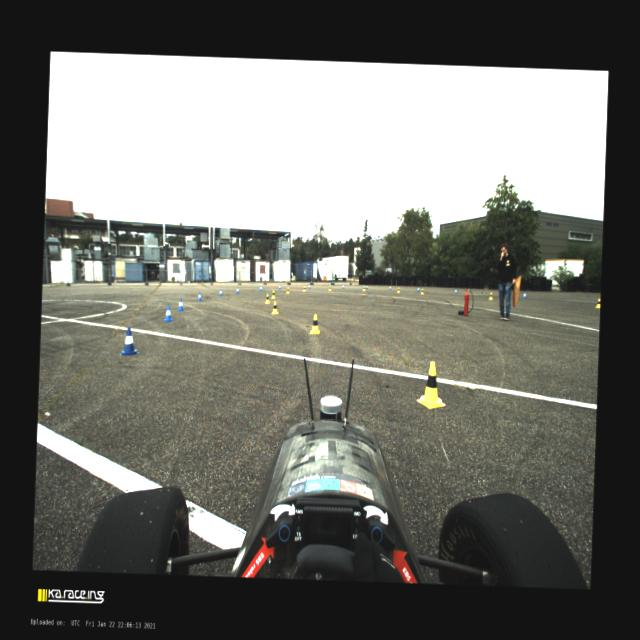blue_cone: (120, 328, 140, 356), (163, 304, 173, 322), (177, 298, 184, 310), (197, 292, 202, 301), (218, 288, 222, 296), (522, 290, 526, 298), (453, 288, 458, 294), (364, 284, 368, 289), (259, 285, 262, 291), (388, 285, 391, 290), (416, 286, 419, 291), (236, 287, 238, 293), (278, 284, 280, 289), (308, 284, 310, 288), (342, 284, 344, 288)
yellow_cone: (416, 362, 446, 408), (310, 314, 320, 334), (272, 301, 278, 314), (594, 297, 600, 308), (264, 293, 269, 303), (488, 291, 493, 300), (271, 290, 275, 299), (286, 286, 290, 294), (302, 286, 306, 292), (328, 285, 331, 291), (362, 285, 365, 291), (396, 286, 399, 292), (421, 288, 424, 294)
